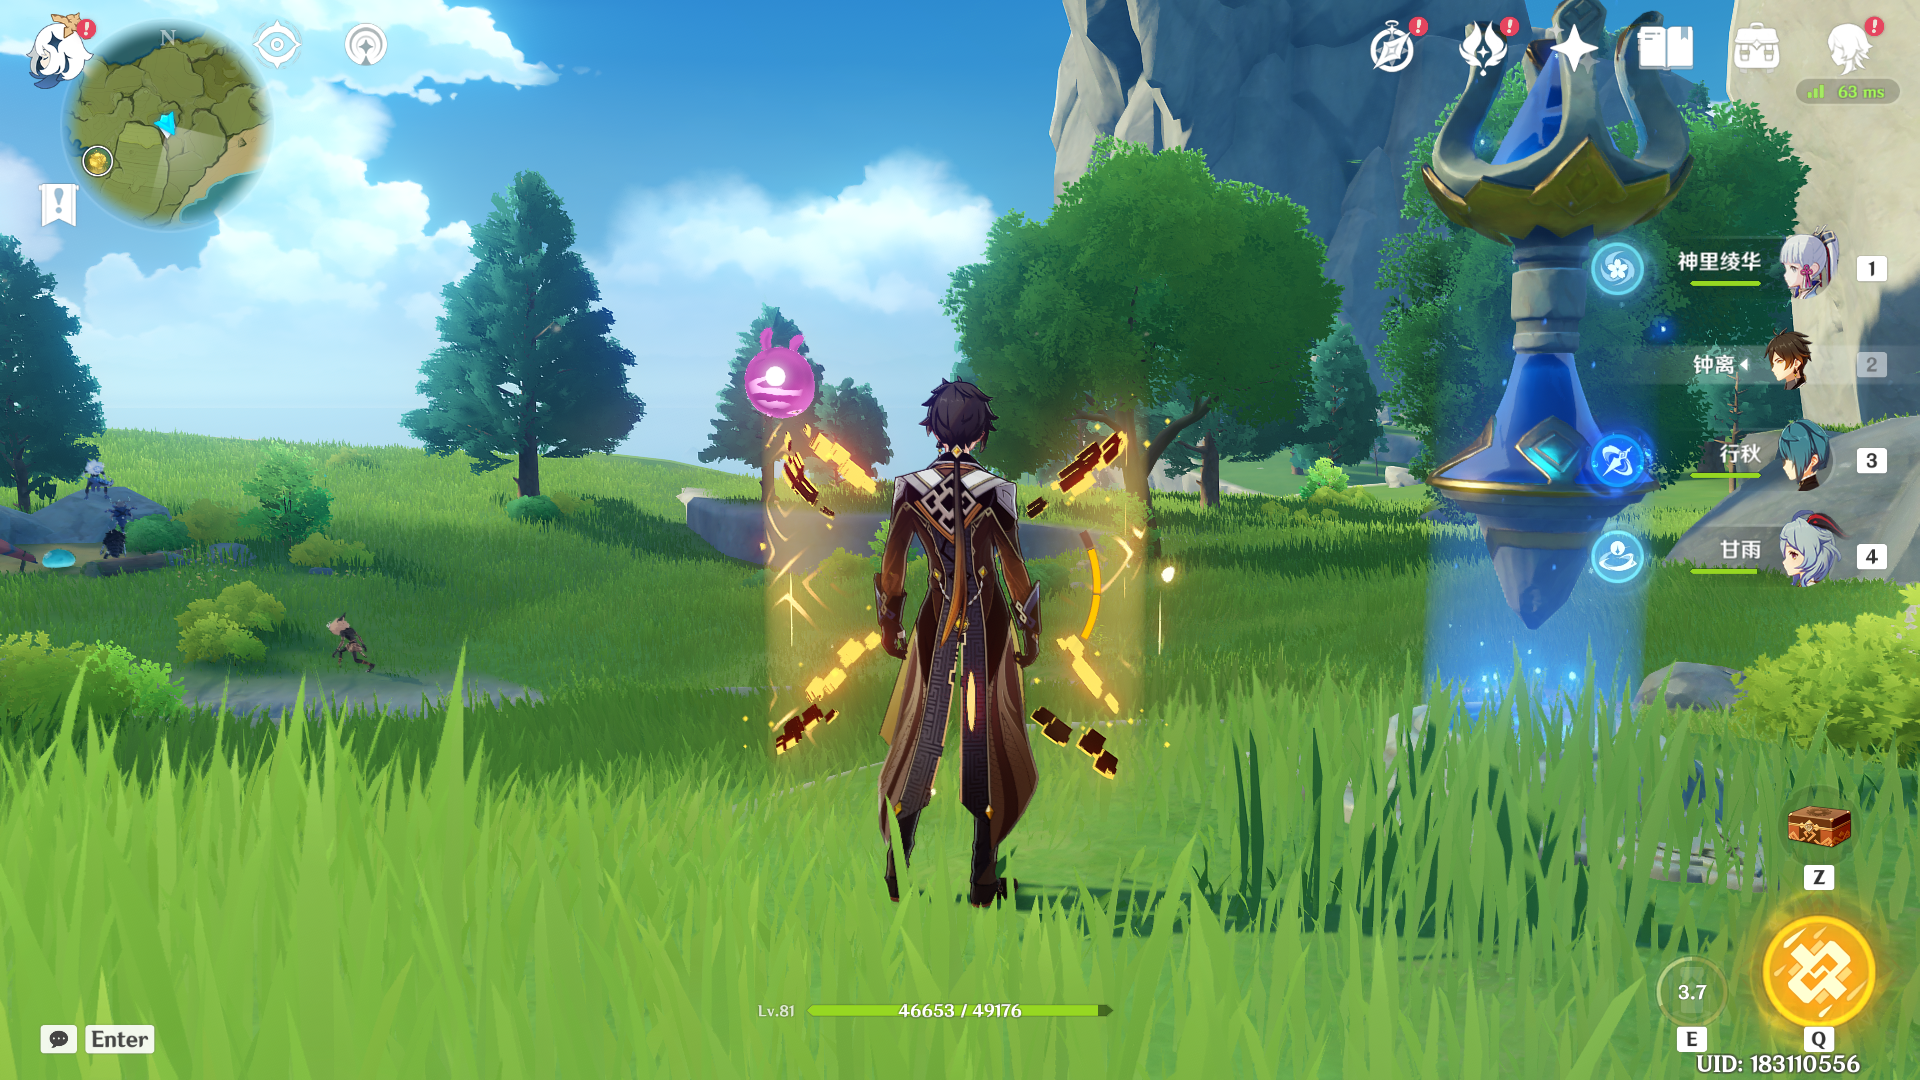character: (798, 355, 1145, 924)
